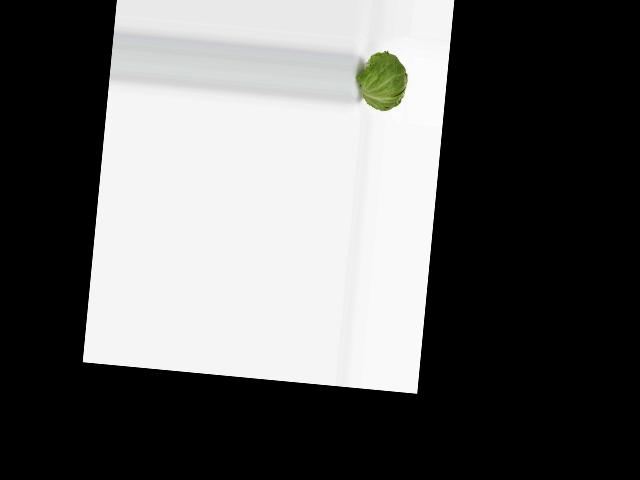lettuce: (360, 47, 410, 116)
